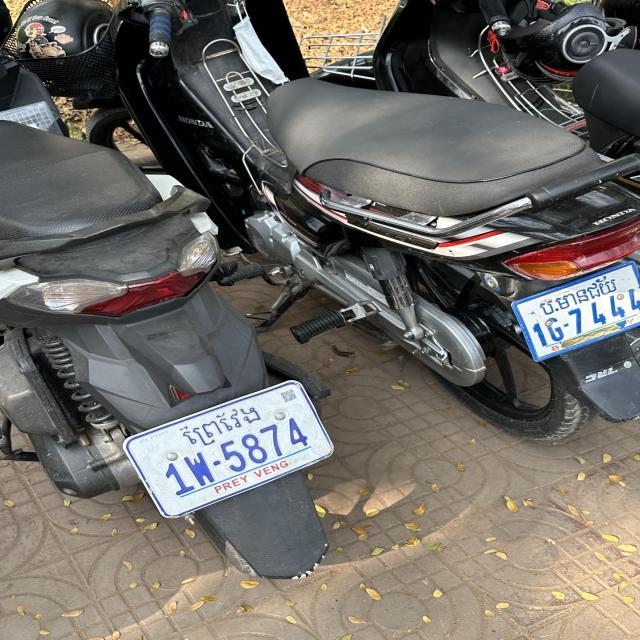Banteay_Meanchey: (537, 274, 618, 315)
Prey_Veng: (175, 403, 264, 446)
